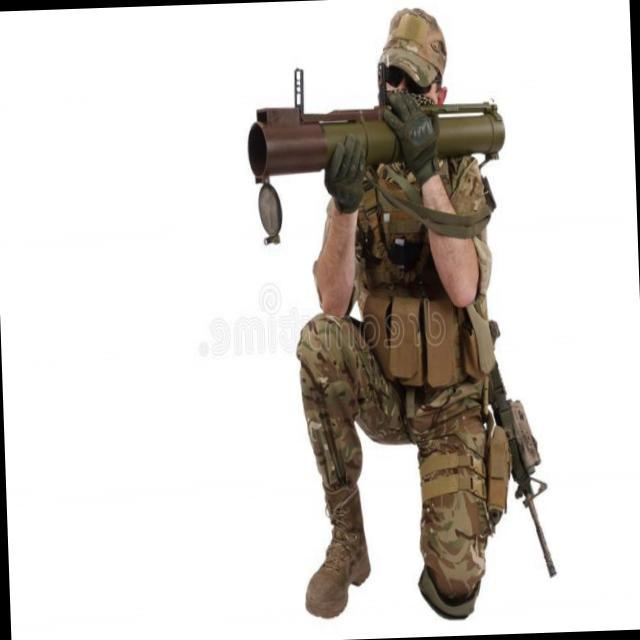rocket: (243, 62, 512, 243)
